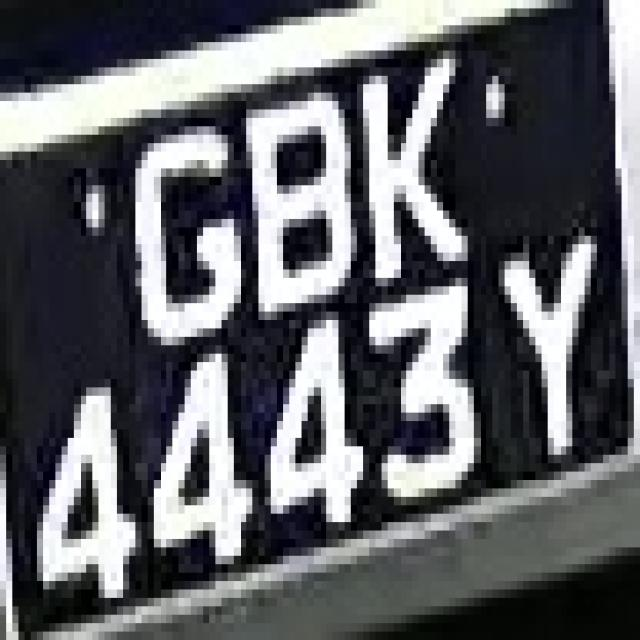3: (351, 253, 486, 547)
4: (234, 295, 388, 547), (18, 370, 153, 640), (123, 337, 265, 581)
B: (222, 68, 363, 328)
G: (111, 84, 252, 354)
K: (338, 51, 474, 286)
Y: (480, 202, 615, 514)
